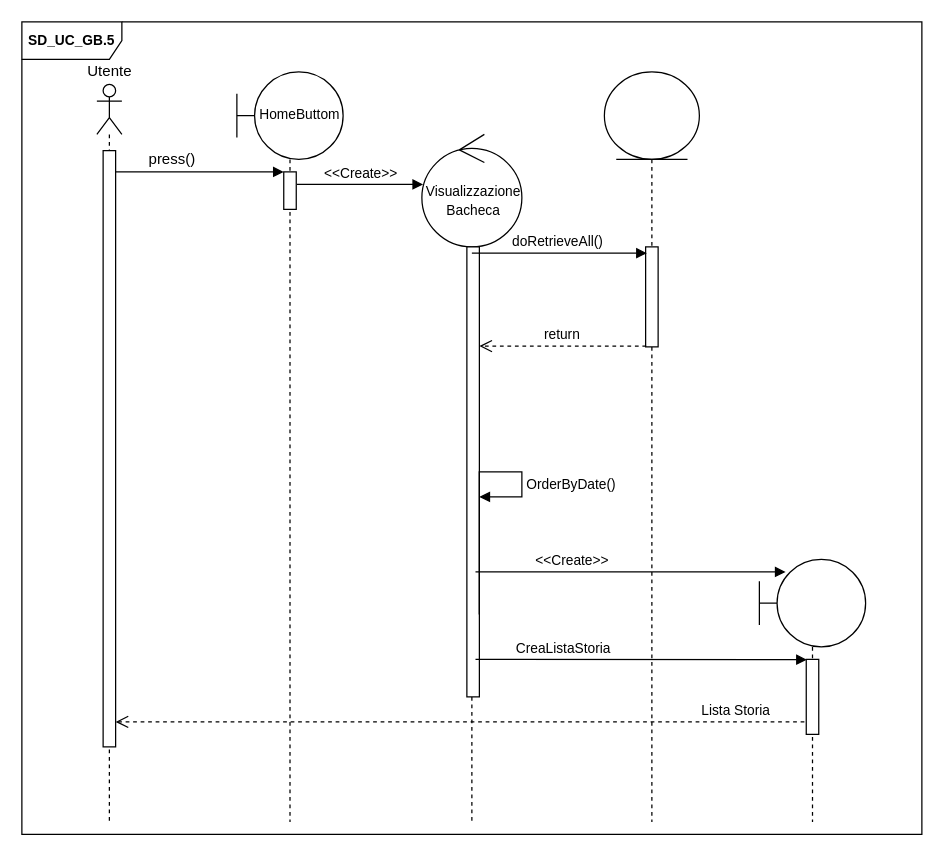
This 944x856 diagram has some shape labels left out. The box of each missing label's shape, as (x1, y1, x2, y2) in pixels:
Bacheca: (758, 558, 866, 822)
Storia: (603, 71, 699, 822)
